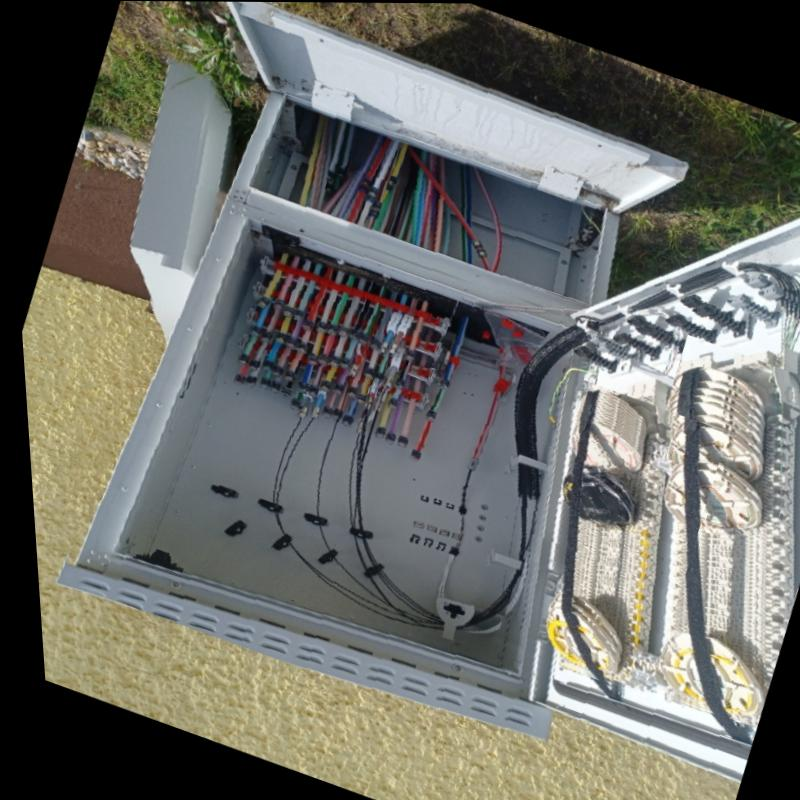NT-Gehause: (53, 87, 800, 782)
Spleiskassetten: (651, 359, 796, 727), (532, 383, 662, 692)
